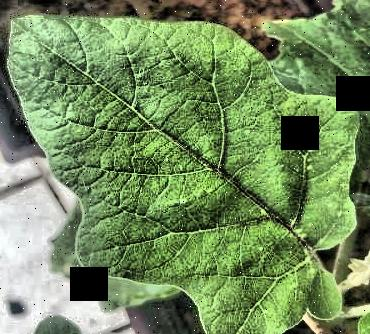HEALTHY: (0, 1, 370, 334)
